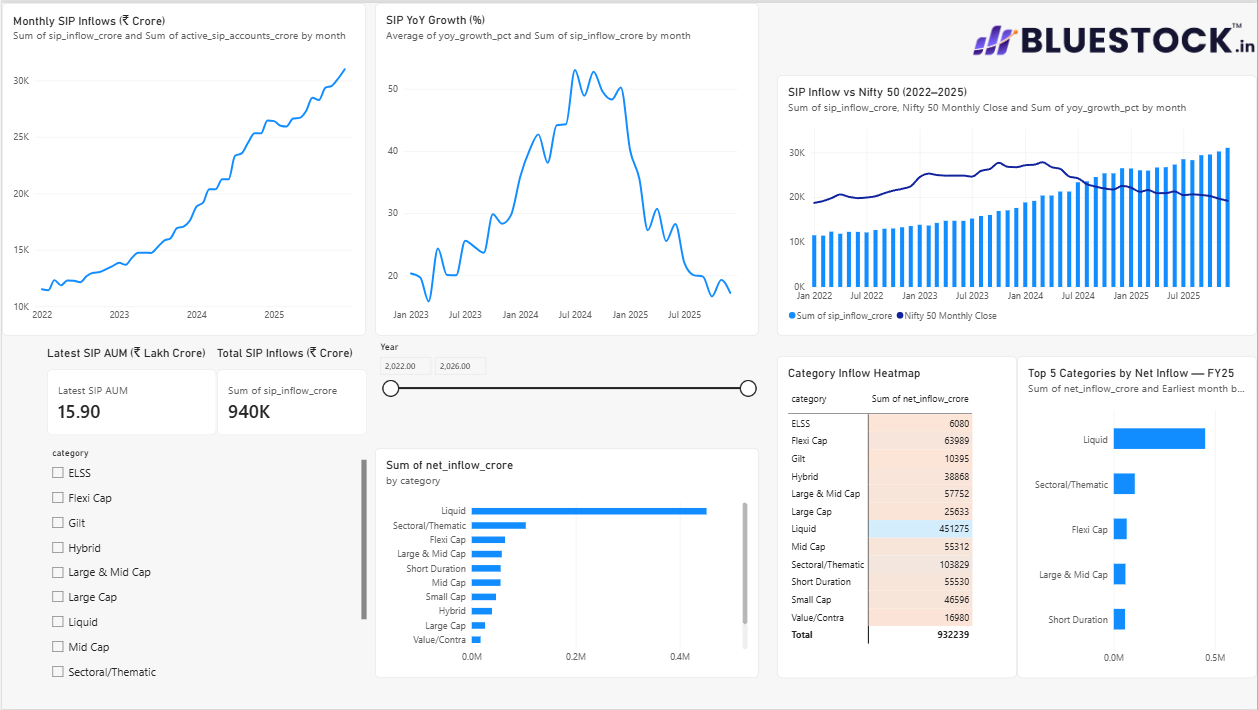

The page's visual inventory and layout, read from the dashboard file:
{"tool":"powerbi","page":{"name":"SIP & Market Trends","canvas":[1920,1080],"ordinal":3},"visuals":[{"type":"lineChart","title":"Monthly SIP Inflows (₹ Crore)","fields":{"Category":["monthly_sip_inflows_cleaned.month"],"Y":["Sum(monthly_sip_inflows_cleaned.sip_inflow_crore)"]},"box":[0,0,557.3,509.2],"z":0},{"type":"cardVisual","title":"Latest SIP AUM (₹ Lakh Crore)","fields":{"Data":["aum_by_fund_house_cleaned.Latest SIP AUM"]},"box":[68.6,523.8,259.7,138.6],"z":1000},{"type":"cardVisual","title":"Total SIP Inflows (₹ Crore)","fields":{"Data":["Sum(monthly_sip_inflows_cleaned.sip_inflow_crore)"]},"box":[328.3,523.8,229.1,138.6],"z":2000},{"type":"lineChart","title":"SIP YoY Growth (%)","fields":{"Category":["monthly_sip_inflows_cleaned.month"],"Y":["Avg(monthly_sip_inflows_cleaned.yoy_growth_pct)"]},"box":[570.5,0,586.5,509.2],"z":3000},{"type":"slicer","fields":{"Values":["dim_month.Year"]},"box":[570.5,519.4,586.5,143],"z":4000},{"type":"slicer","fields":{"Values":["category_inflows_cleaned.category"]},"box":[68.6,681.3,488.8,351.6],"z":5000},{"type":"lineClusteredColumnComboChart","title":"SIP Inflow vs Nifty 50 (2022–2025)","fields":{"Category":["monthly_sip_inflows_cleaned.month"],"Y":["Sum(monthly_sip_inflows_cleaned.sip_inflow_crore)"],"Y2":["aum_by_fund_house_cleaned.Nifty 50 Monthly Close"]},"box":[1186.1,0,733.9,509.2],"z":6000},{"type":"pivotTable","title":"Category Inflow Heatmap","fields":{"Rows":["category_inflows_cleaned.category"],"Values":["Sum(category_inflows_cleaned.net_inflow_crore)"]},"box":[1185.7,540,367.2,492.6],"z":7000},{"type":"clusteredBarChart","fields":{"Category":["category_inflows_cleaned.category"],"Y":["Sum(category_inflows_cleaned.net_inflow_crore)"]},"box":[570,681,587,352],"z":8000},{"type":"clusteredBarChart","title":"Top 5 Categories by Net Inflow — FY25","fields":{"Category":["category_inflows_cleaned.category"],"Y":["Sum(category_inflows_cleaned.net_inflow_crore)"]},"box":[1553,540,367,493],"z":8001}]}

Visuals, with their boxes in screenshot pixels (x1, y1, x2, y2), scaled from the page's 1920x1080 canvas onto the 1258x710 screenshot:
"Monthly SIP Inflows (₹ Crore)" lineChart: [x1=0, y1=0, x2=365, y2=335]
"Latest SIP AUM (₹ Lakh Crore)" cardVisual: [x1=45, y1=344, x2=215, y2=435]
"Total SIP Inflows (₹ Crore)" cardVisual: [x1=215, y1=344, x2=365, y2=435]
"SIP YoY Growth (%)" lineChart: [x1=374, y1=0, x2=758, y2=335]
slicer - dim_month.Year: [x1=374, y1=341, x2=758, y2=435]
slicer - category_inflows_cleaned.category: [x1=45, y1=448, x2=365, y2=679]
"SIP Inflow vs Nifty 50 (2022–2025)" lineClusteredColumnComboChart: [x1=777, y1=0, x2=1257, y2=335]
"Category Inflow Heatmap" pivotTable: [x1=777, y1=355, x2=1017, y2=679]
clusteredBarChart - category_inflows_cleaned.category x Sum(category_inflows_cleaned.net_inflow_crore): [x1=373, y1=448, x2=758, y2=679]
"Top 5 Categories by Net Inflow — FY25" clusteredBarChart: [x1=1018, y1=355, x2=1257, y2=679]
